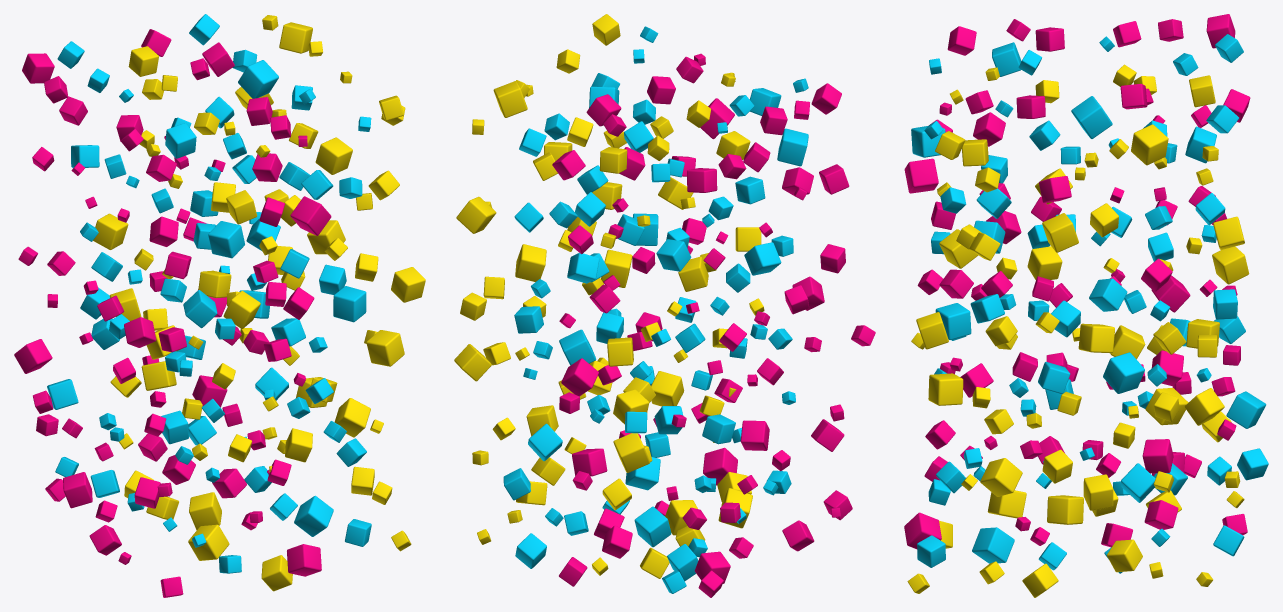
File: GridAnimationTest_GLTF_1.gltf
The picture shows the model from 3 angles, left to right: view 1: azimuth 30°, elevation 25°; view 2: azimuth 150°, elevation 25°; view 3: azimuth 270°, elevation 25°; orthographic projection. The views are drawn at different scales.
Visible parts, largest first — view 1: Cube 17, Cube.1 40, Cube.1 25, Cube.1 142, Cube.1 22, Cube.2 27, Cube.2 3, Cube 101, Cube 38, Cube 74, Cube 47, Cube 23 (+50 smaller); view 2: Cube.1 187, Cube 152, Cube 131, Cube 122, Cube.2 159, Cube.1 25, Cube 209, Cube.2 3, Cube.1 55, Cube 179, Cube.1 124, Cube.1 205 (+48 smaller); view 3: Cube.1 124, Cube.1 40, Cube 47, Cube 179, Cube 17, Cube 74, Cube.1 142, Cube 200, Cube 131, Cube.2 27, Cube 101, Cube.1 187 (+69 smaller).
Part boxes in pixels (x1,y1,x2,y2): Cube 17: (366, 330, 404, 366); Cube.1 40: (294, 495, 333, 536); Cube.1 25: (208, 221, 244, 258); Cube.1 142: (238, 60, 278, 98); Cube.1 22: (333, 286, 366, 322); Cube.2 27: (290, 196, 331, 235); Cube.2 3: (287, 544, 321, 576); Cube 101: (315, 137, 352, 174); Cube 38: (188, 524, 229, 560); Cube 74: (189, 492, 221, 529); Cube 47: (334, 398, 370, 437); Cube 23: (391, 267, 425, 302); Cube.1 187: (634, 506, 671, 547); Cube 152: (613, 433, 649, 472); Cube 131: (515, 244, 546, 281); Cube 122: (651, 371, 684, 406); Cube.2 159: (561, 358, 598, 396); Cube.1 25: (777, 128, 808, 166); Cube 209: (456, 196, 496, 233); Cube.2 3: (703, 447, 737, 485); Cube.1 55: (744, 242, 781, 275); Cube 179: (493, 81, 527, 117); Cube.1 124: (559, 329, 596, 365); Cube.1 205: (656, 239, 691, 271); Cube.1 124: (1103, 352, 1144, 393); Cube.1 40: (972, 527, 1014, 563); Cube 47: (980, 458, 1022, 496); Cube 179: (1131, 124, 1168, 165); Cube 17: (928, 373, 963, 405); Cube 74: (1047, 495, 1083, 524); Cube.1 142: (1071, 96, 1112, 138); Cube 200: (1212, 246, 1249, 284); Cube 131: (1078, 323, 1114, 353); Cube.2 27: (904, 158, 938, 193); Cube 101: (1042, 213, 1078, 252); Cube.1 187: (1226, 391, 1266, 428).
Bounding box in the file's own units: 13.2 × 19.78 × 13.38.
